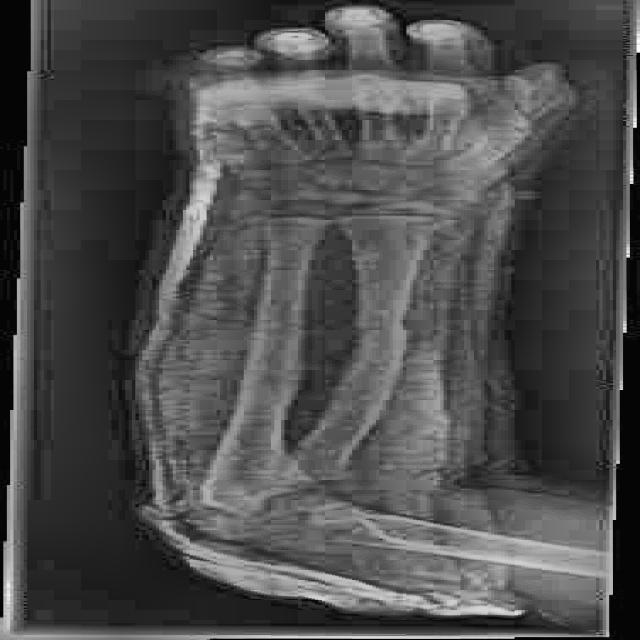forearm fracture: (299, 298, 437, 372)
